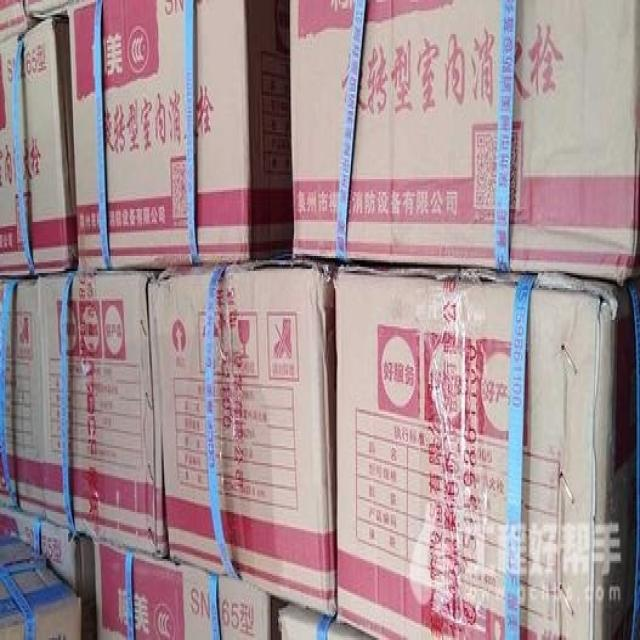box: (333, 260, 636, 640), (290, 0, 640, 284), (147, 254, 338, 617), (67, 0, 294, 269), (0, 265, 159, 557), (0, 15, 79, 277), (94, 538, 288, 640), (0, 506, 97, 640), (0, 535, 81, 640), (278, 604, 381, 640), (24, 0, 84, 19)
